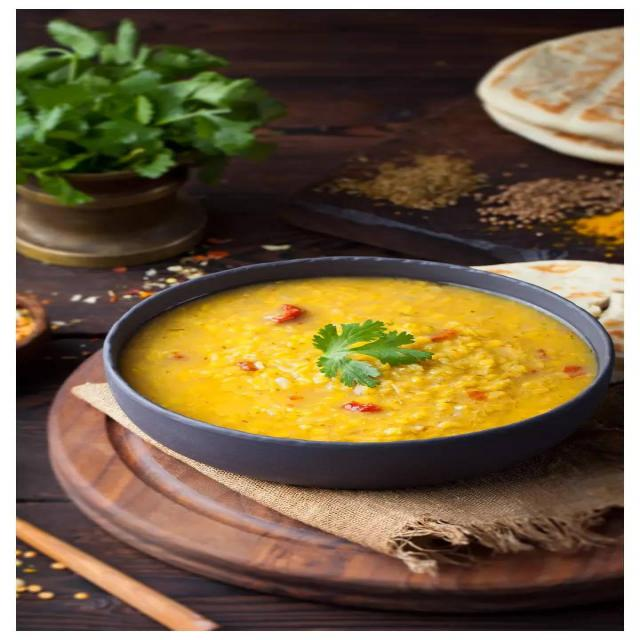dal: (120, 272, 599, 442)
